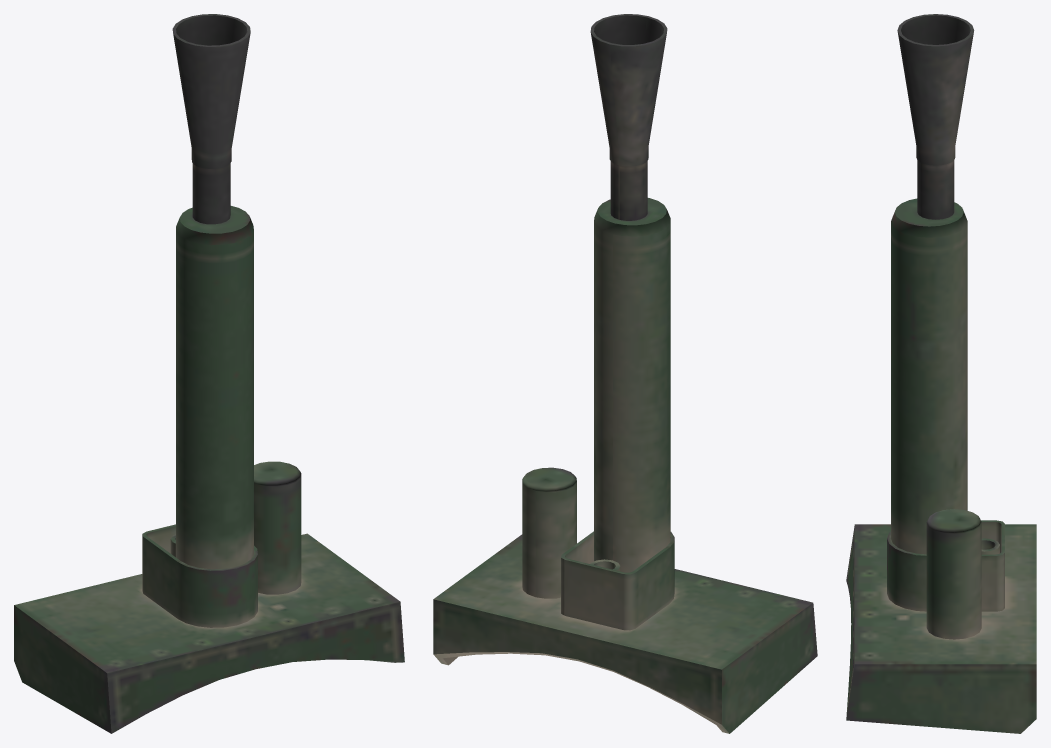
File: Gun_06.glb
3 views of the same model, side by side, from view 1: azimuth 30°, elevation 25°; view 2: azimuth 150°, elevation 25°; view 3: azimuth 270°, elevation 25° (orthographic). The views are drawn at different scales.
Parts seen in each view (by area): view 1: set_0_group_0; view 2: set_0_group_0; view 3: set_0_group_0.
Boxes of the visible parts, bbox=[...] form: set_0_group_0: bbox=[14, 14, 404, 733]; set_0_group_0: bbox=[433, 14, 817, 733]; set_0_group_0: bbox=[846, 14, 1036, 733].
Size of the model in its own units: 0.7365 by 1.55 by 0.4238.
Materials: 1 (1 with a texture image).
